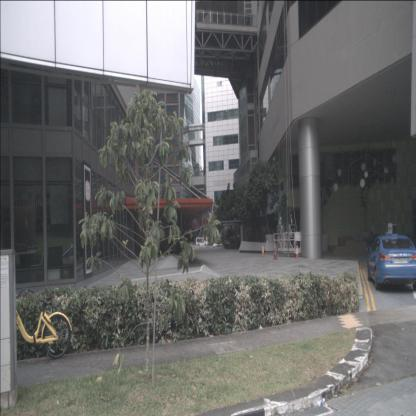human-pedestrian-adult: (365, 231, 375, 254)
movable_object-trafficcone: (273, 246, 278, 260), (295, 244, 299, 259), (261, 245, 265, 257)
vehicle-bicycle: (1, 287, 73, 366)
vehicle-car: (367, 233, 415, 291), (196, 237, 209, 247)
